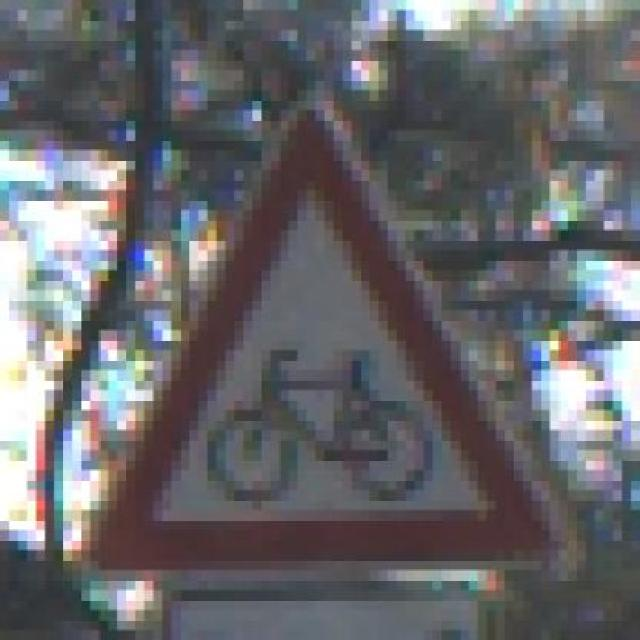CYCLE ROUTE AHEAD WARNING: (54, 90, 577, 590)
